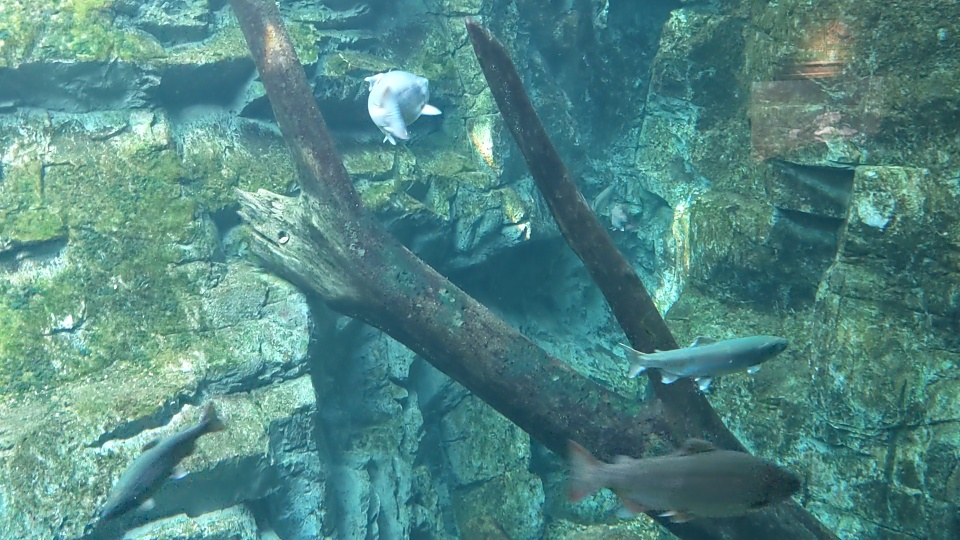Fish: (565, 434, 801, 521), (96, 400, 224, 524), (616, 323, 795, 386), (363, 64, 441, 139), (587, 184, 622, 219), (614, 196, 644, 225)
